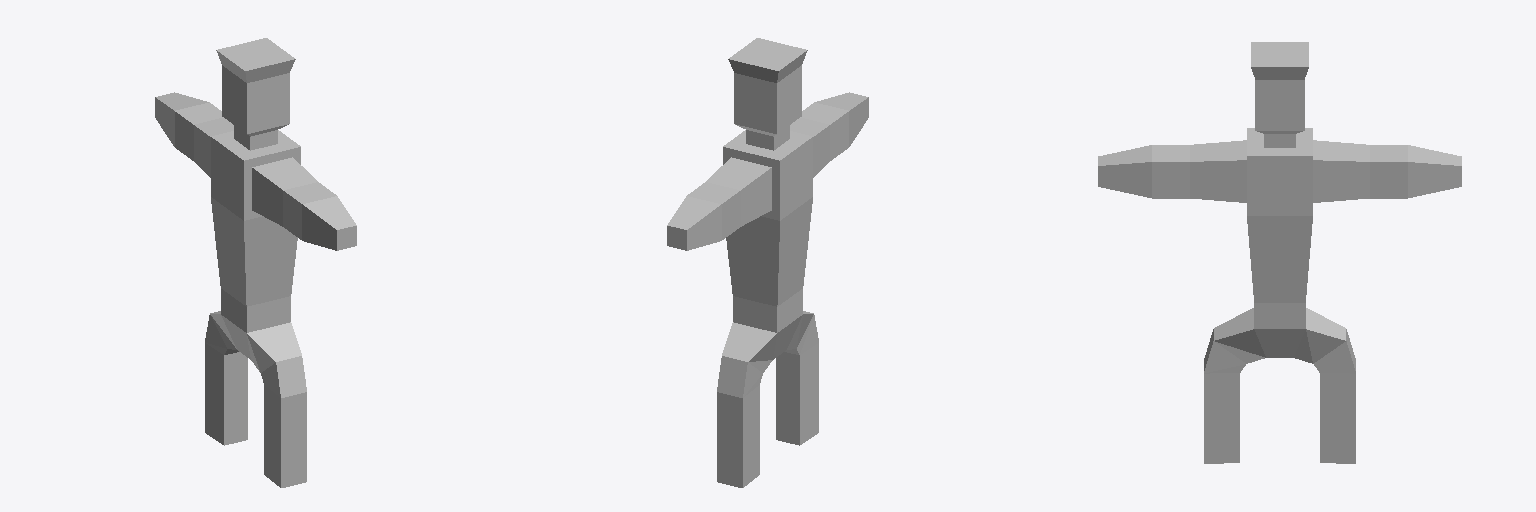
Rendered from character.obj.
3 views of the same model, side by side, from view 1: azimuth 30°, elevation 25°; view 2: azimuth 150°, elevation 25°; view 3: azimuth 270°, elevation 25° (orthographic).
Parts seen in each view (by area): view 1: Cube; view 2: Cube; view 3: Cube.
Boxes of the visible parts, x1,y1,x2,y2 form: Cube: [155, 38, 356, 487]; Cube: [667, 38, 868, 487]; Cube: [1098, 42, 1461, 463].
Bounding box in the file's own units: 2 × 13.39 × 10.96.